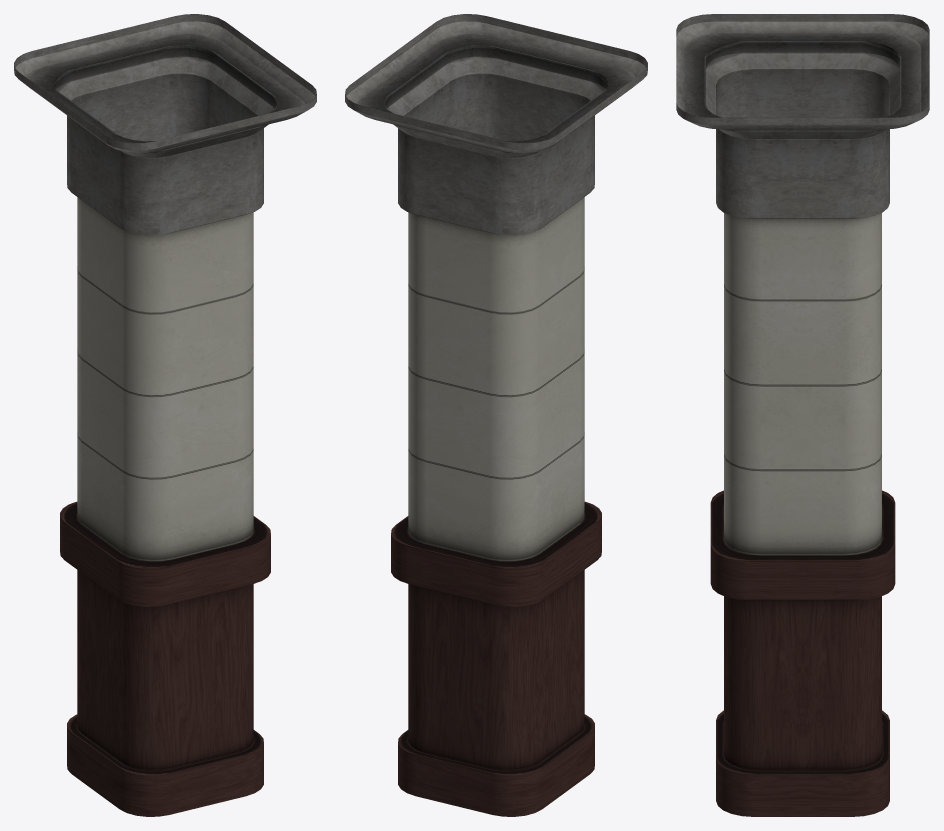
File: Wall 6 Pillar 2.fbx
3 renders of one model, left to right at view 1: azimuth 30°, elevation 25°; view 2: azimuth 150°, elevation 25°; view 3: azimuth 270°, elevation 25°, orthographic. The views are drawn at different scales.
Visible parts, largest first — view 1: Wall_6_Pillar_2; view 2: Wall_6_Pillar_2; view 3: Wall_6_Pillar_2.
Boxes of the visible parts, left/top/right/bottom form: Wall_6_Pillar_2: left=14, top=14, right=316, bottom=816; Wall_6_Pillar_2: left=345, top=14, right=647, bottom=816; Wall_6_Pillar_2: left=676, top=14, right=929, bottom=816.
Size of the model in its own units: 93.24 by 300 by 96.24.
